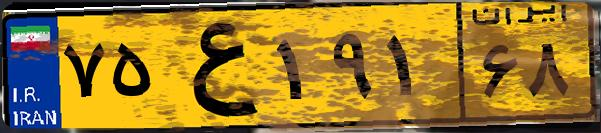1: (270, 28, 330, 110), (385, 28, 445, 110)
5: (110, 28, 158, 98)
6: (475, 38, 525, 113)
7: (57, 26, 110, 100)
8: (525, 38, 570, 115)
9: (330, 28, 385, 110)
ع: (158, 12, 270, 120)
